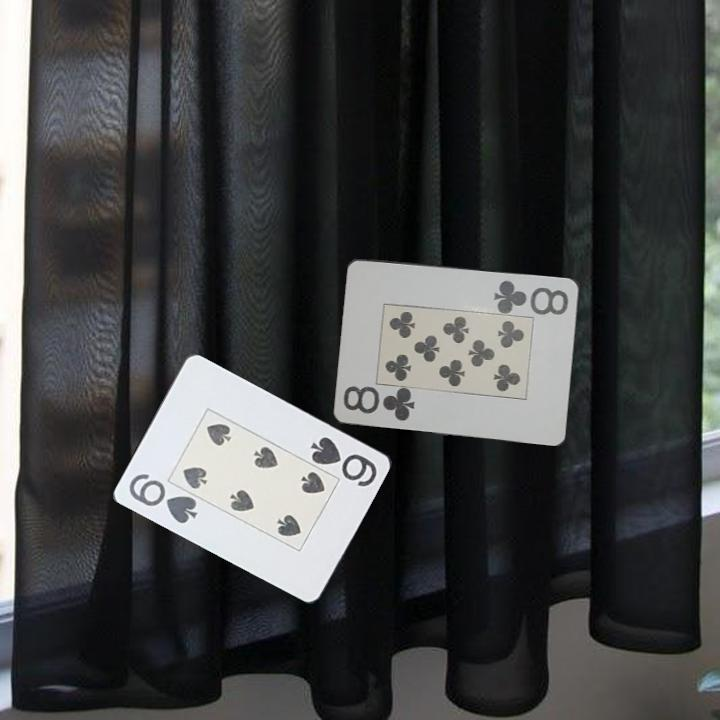6s: (126, 470, 201, 527), (307, 433, 380, 490)
8c: (490, 276, 572, 318), (340, 383, 418, 424)
